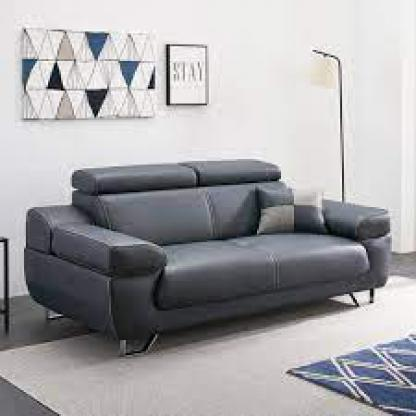sofa: (19, 163, 388, 355)
